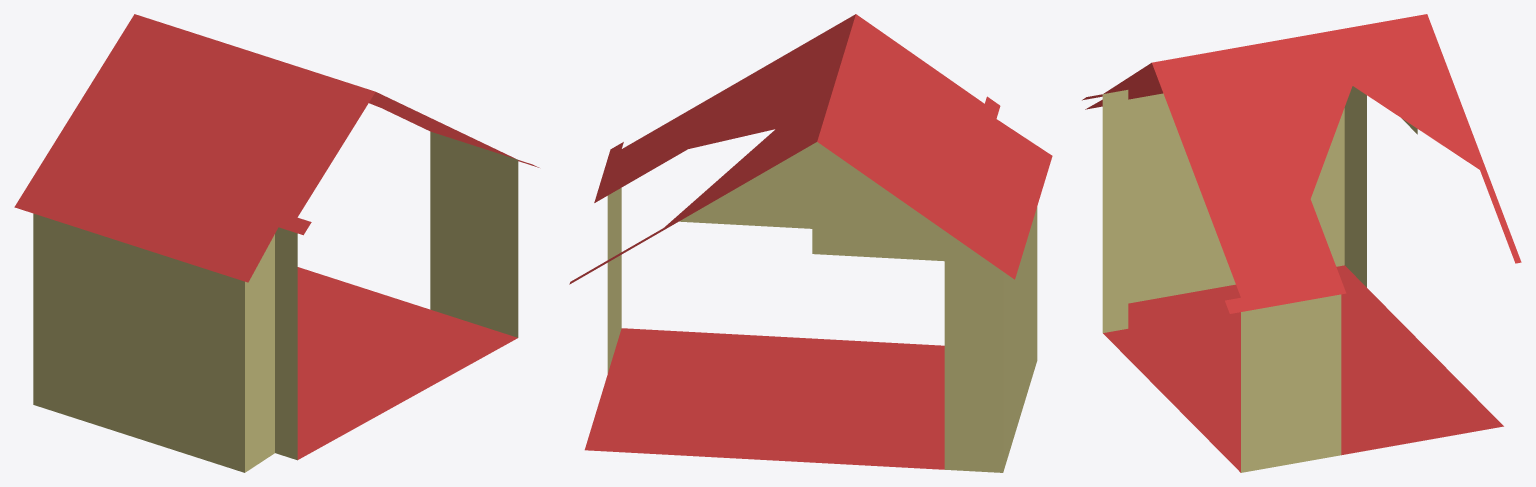
3 views of the same model, side by side, from view 1: azimuth 30°, elevation 25°; view 2: azimuth 150°, elevation 25°; view 3: azimuth 270°, elevation 25° (orthographic). The views are drawn at different scales.
Size of the model in its own units: 19.81 by 16.52 by 13.26.
